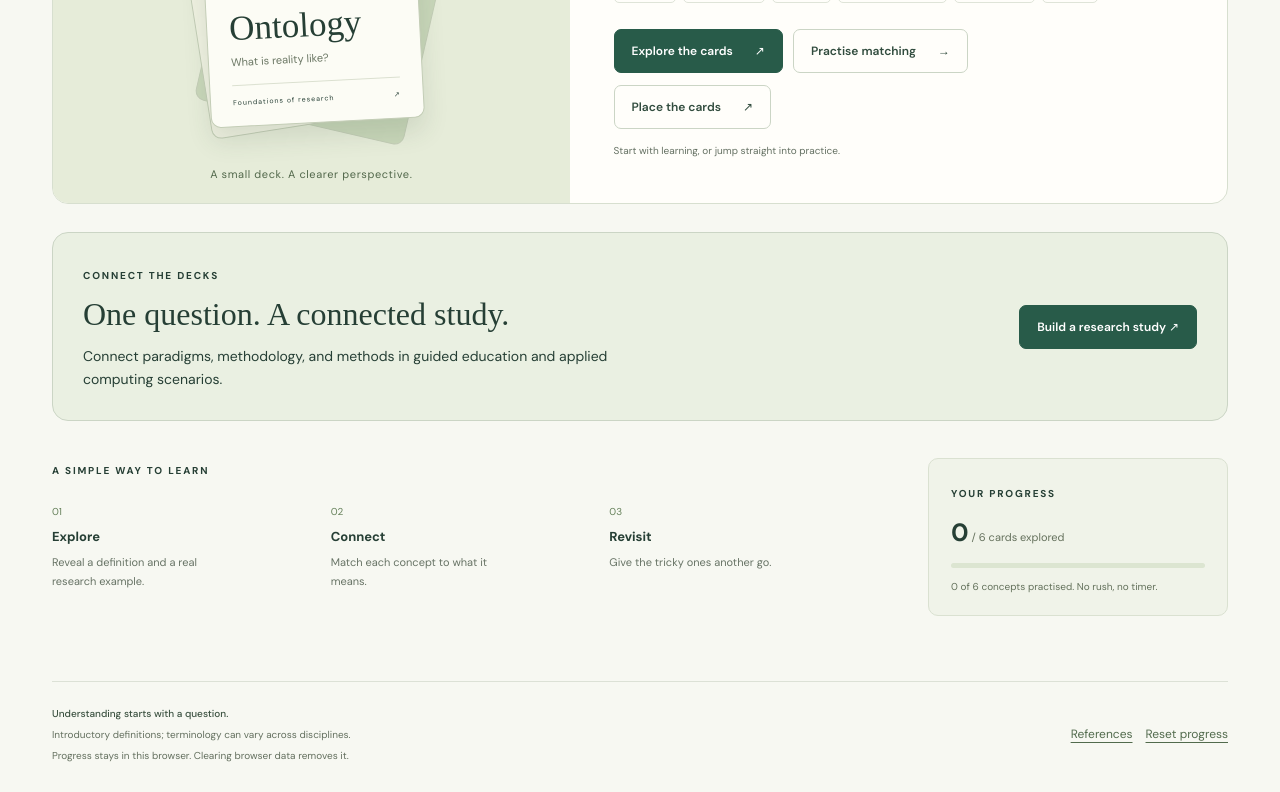
Test case: makes the bibliography available from the footer and explains provenance
(page scrolled)
Click the button "References" at x=1102, y=734, box left=1071, top=712, right=1132, bottom=756
(page scrolled)
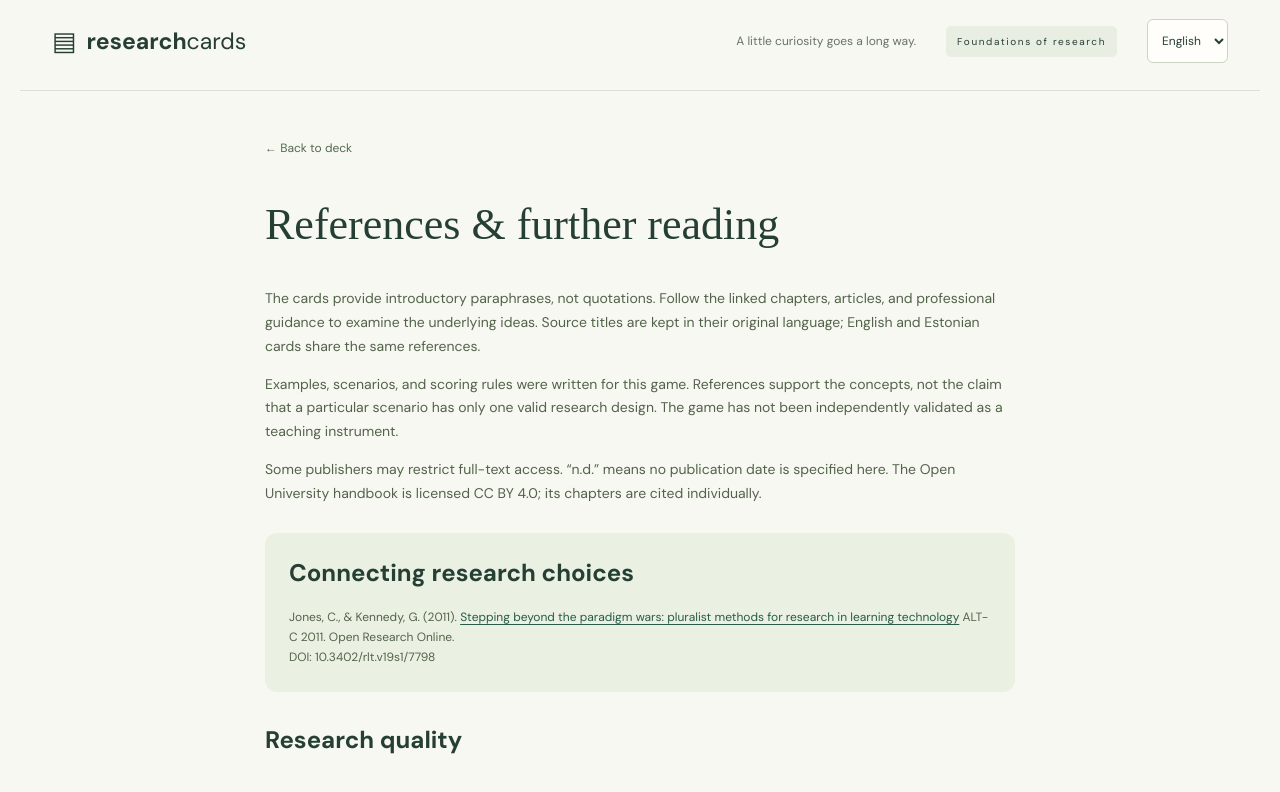
Expected: the text "Examples, scenarios, and scoring rules were written for this game" is shown, left=265, top=374, right=1002, bottom=440
Select "Eesti" in the dropdown named "Language" at x=1188, y=41, box left=1147, top=19, right=1228, bottom=63
(page scrolled)
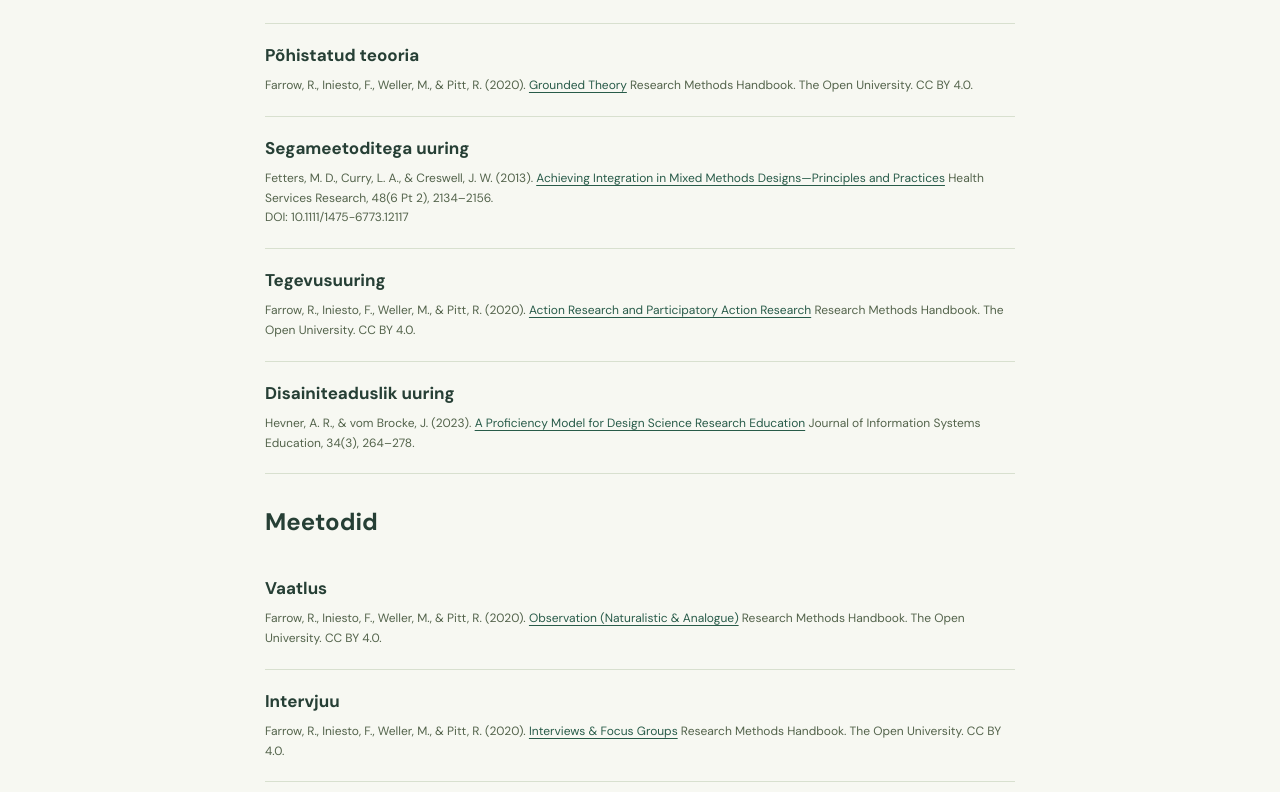
Expected: the heading "Disainiteaduslik uuring" is shown, left=265, top=382, right=455, bottom=404
